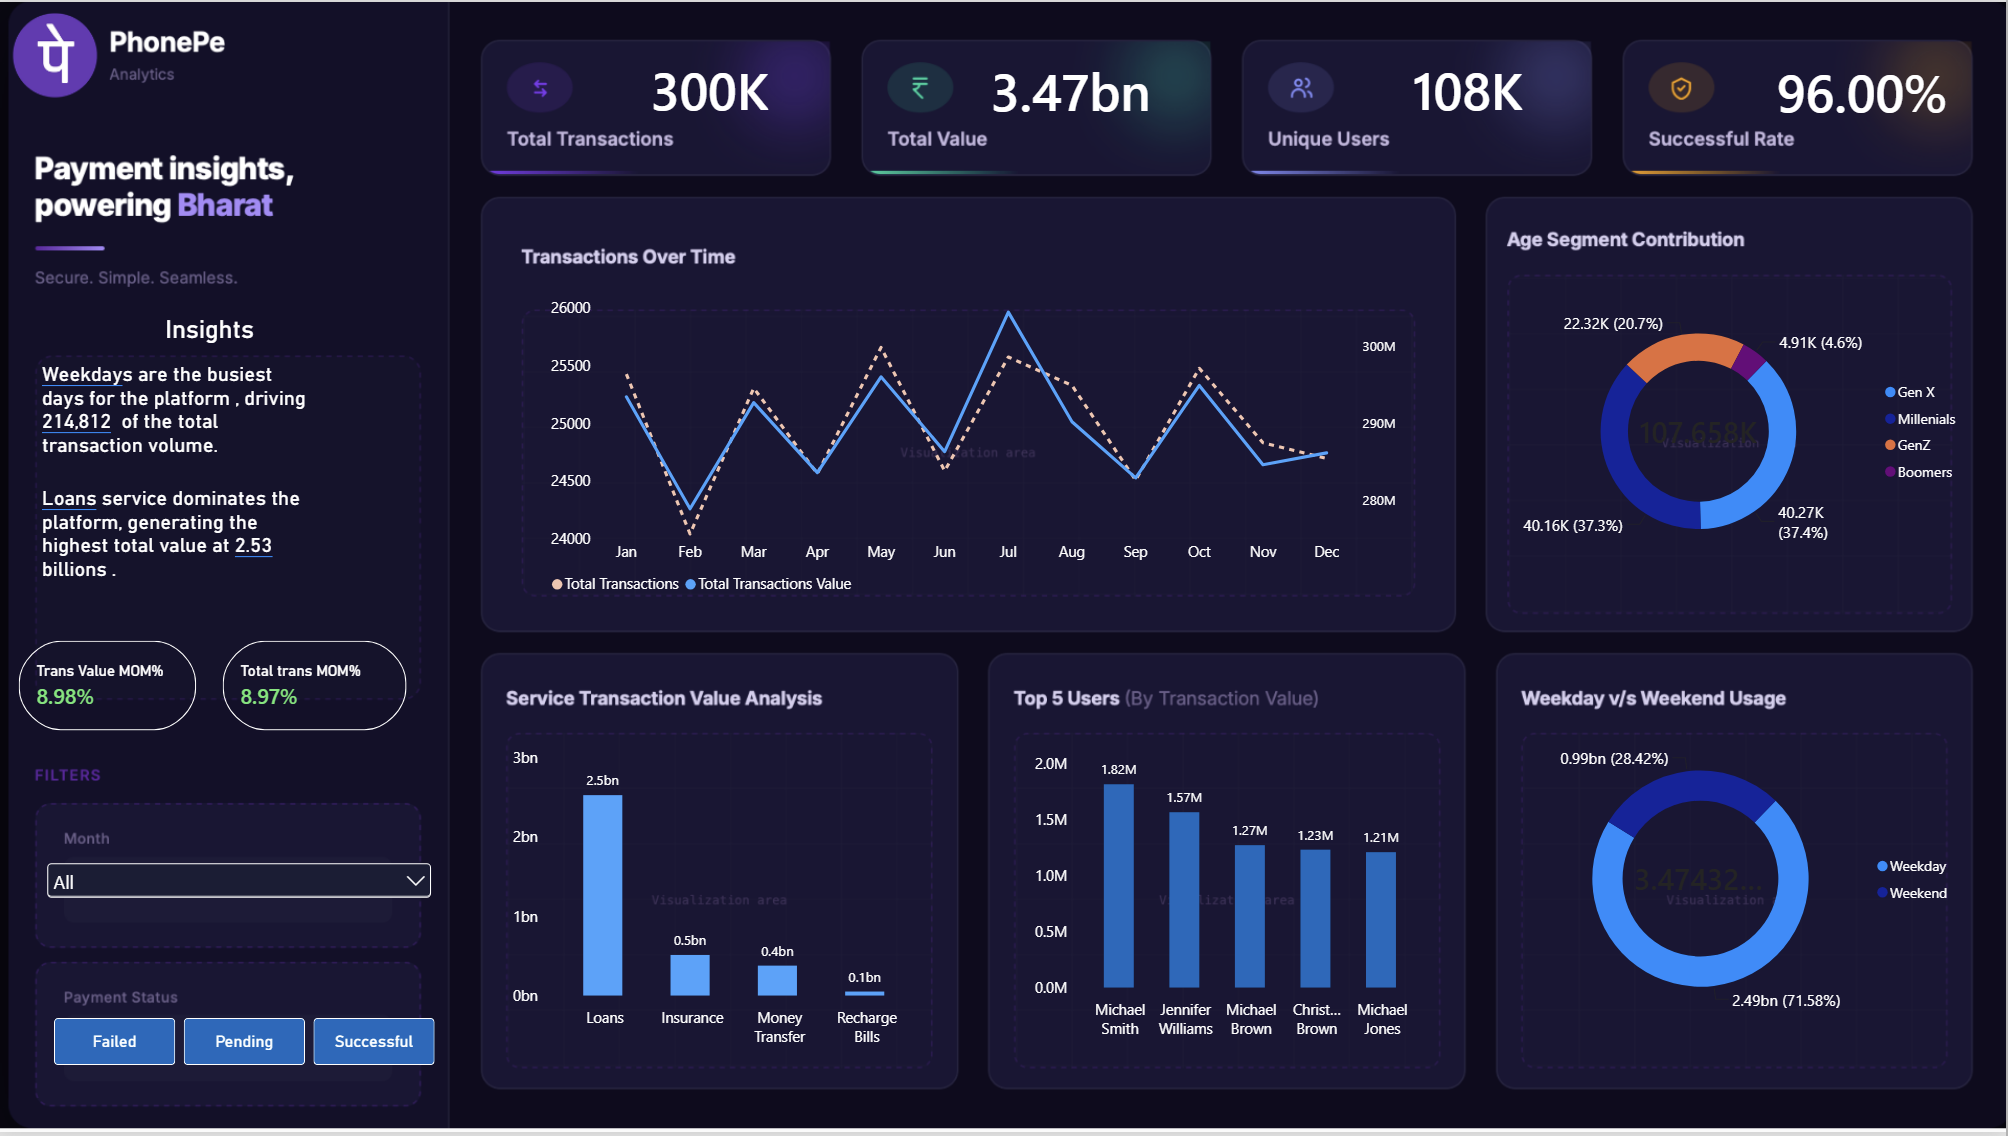

This screenshot's page, from the dashboard's own definition file:
{"tool":"powerbi","page":{"name":"Page 1","canvas":[1920,1080],"ordinal":0},"visuals":[{"type":"cardVisual","fields":{"Data":["Measures (2).Total Transactions Value"]},"box":[934.1,15,327.3,137.7],"z":0},{"type":"cardVisual","fields":{"Data":["Measures (2).Total Users"]},"box":[1337.2,16,163.7,135.7],"z":1000},{"type":"cardVisual","fields":{"Data":["Measures (2).Success Rate"]},"box":[1684.5,2,235.5,165.7],"z":2000},{"type":"cardVisual","fields":{"Data":["Measures (2).Total Transactions"]},"box":[608.7,16,213.6,135.7],"z":3000},{"type":"slicer","fields":{"Values":["Date_Table.Month"]},"box":[41.9,818.3,377.2,63.9],"z":4000},{"type":"cardVisual","fields":{"Data":["Measures (2).Total trans MOM%"]},"box":[213.6,610.7,177.6,87.8],"z":5000},{"type":"cardVisual","fields":{"Data":["Measures (2).Trans Value MOM%"]},"box":[20,610.7,171.6,87.8],"z":6000},{"type":"areaChart","fields":{"Category":["Date_Table.Month"],"Y":["Measures (2).Total Transactions"],"Y2":["Measures (2).Total Transactions Value"]},"box":[512.9,267.4,844.2,319.3],"z":7000},{"type":"columnChart","fields":{"Category":["All_Transactions.Service"],"Y":["Measures (2).Total Transactions Value"]},"box":[477,698.5,425,319],"z":8000},{"type":"donutChart","fields":{"Category":["All_Users.Age Segment"],"Y":["CountNonNull(All_Users.User_ID)"]},"box":[1433,267.4,465,287.4],"z":9000},{"type":"donutChart","fields":{"Category":["Date_Table.Weekend"],"Y":["Measures (2).Total Transactions Value"]},"box":[1443,642.7,445.1,393.2],"z":10000},{"type":"columnChart","fields":{"Category":["All_Users.Name"],"Y":["Measures (2).Total Transactions Value"]},"box":[976,698.5,405.2,311.4],"z":11000},{"type":"advancedSlicerVisual","fields":{"Values":["All_Transactions.Payment_Status"]},"box":[53.9,972,365.2,45.9],"z":12000},{"type":"textbox","box":[20,297.4,261.5,47.9],"z":13000},{"type":"textbox","box":[42.7,344.6,261,117.7],"z":14000},{"type":"textbox","box":[42.7,462.4,273,124.5],"z":15000}]}

Visuals, with their boxes in screenshot pixels (x1, y1, x2, y2), scaled from the page's 1920x1080 canvas onto the 2012x1136 screenshot:
cardVisual - Measures (2).Total Transactions Value: (left=979, top=16, right=1322, bottom=161)
cardVisual - Measures (2).Total Users: (left=1401, top=17, right=1573, bottom=160)
cardVisual - Measures (2).Success Rate: (left=1765, top=2, right=2011, bottom=176)
cardVisual - Measures (2).Total Transactions: (left=638, top=17, right=862, bottom=160)
slicer - Date_Table.Month: (left=44, top=861, right=439, bottom=928)
cardVisual - Measures (2).Total trans MOM%: (left=224, top=642, right=410, bottom=735)
cardVisual - Measures (2).Trans Value MOM%: (left=21, top=642, right=201, bottom=735)
areaChart - Date_Table.Month x Measures (2).Total Transactions: (left=537, top=281, right=1422, bottom=617)
columnChart - All_Transactions.Service x Measures (2).Total Transactions Value: (left=500, top=735, right=945, bottom=1070)
donutChart - All_Users.Age Segment x CountNonNull(All_Users.User_ID): (left=1502, top=281, right=1989, bottom=584)
donutChart - Date_Table.Weekend x Measures (2).Total Transactions Value: (left=1512, top=676, right=1979, bottom=1090)
columnChart - All_Users.Name x Measures (2).Total Transactions Value: (left=1023, top=735, right=1447, bottom=1062)
advancedSlicerVisual - All_Transactions.Payment_Status: (left=56, top=1022, right=439, bottom=1071)
textbox: (left=21, top=313, right=295, bottom=363)
textbox: (left=45, top=362, right=318, bottom=486)
textbox: (left=45, top=486, right=331, bottom=617)
